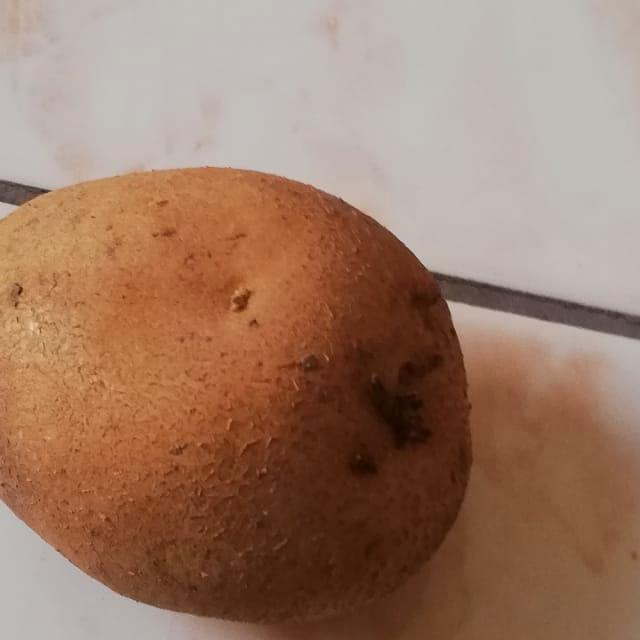potato: (0, 122, 485, 640)
